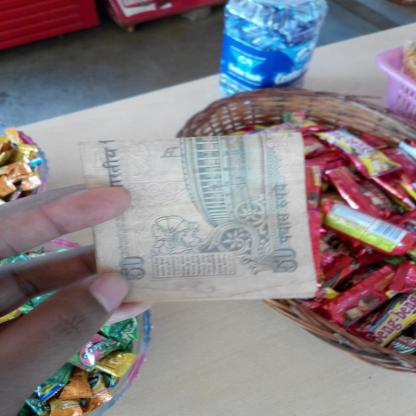Old50Back: (80, 132, 318, 302)
